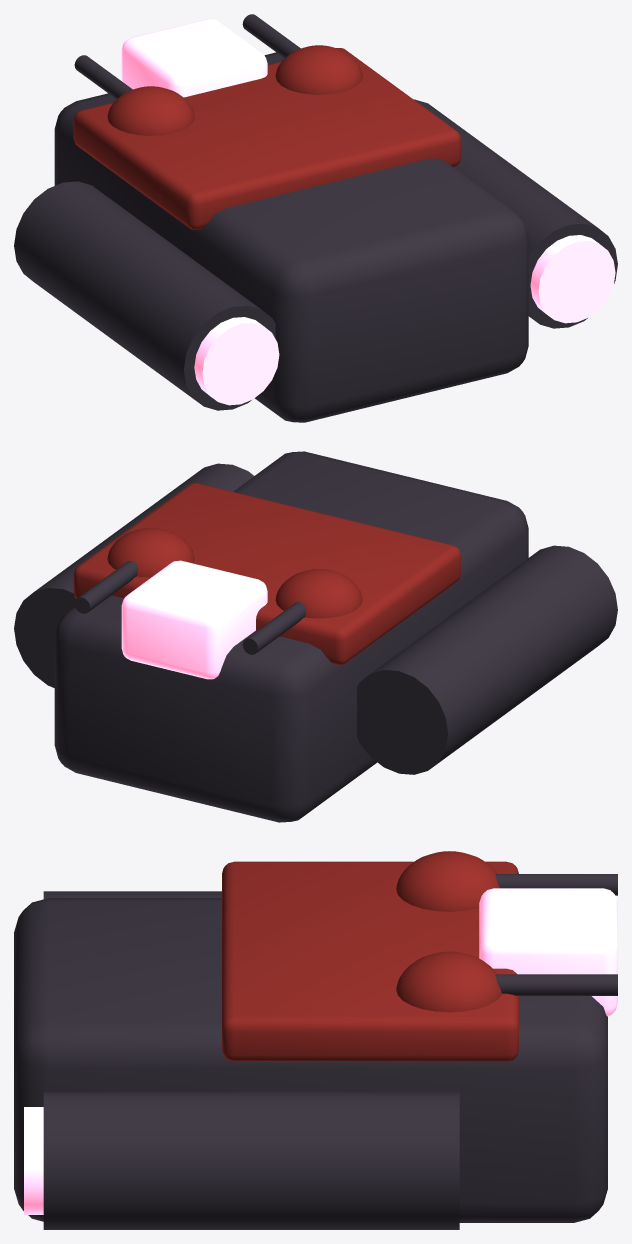
Rendered from pirate_gunship.glb.
3 views of the same model, one above another, from view 1: azimuth 30°, elevation 25°; view 2: azimuth 150°, elevation 25°; view 3: azimuth 270°, elevation 25° (orthographic). The views are drawn at different scales.
Visible parts, largest first — view 1: Hull, Armor, Pod-1, Bridge, Pod1, Engine, Engine.001, Turret1, Turret-1, Barrel-1, Barrel1; view 2: Hull, Pod-1, Armor, Bridge, Pod1, Turret-1, Turret1, Barrel1, Barrel-1; view 3: Hull, Pod1, Armor, Bridge, Turret1, Turret-1, Barrel1, Engine.001, Barrel-1, Pod-1.
Part boxes in pixels (bbox=[...]): Hull: bbox=[54, 52, 528, 422]; Armor: bbox=[73, 48, 460, 229]; Pod-1: bbox=[14, 181, 275, 410]; Bridge: bbox=[121, 19, 267, 97]; Pod1: bbox=[414, 99, 617, 328]; Engine: bbox=[194, 317, 279, 405]; Engine.001: bbox=[530, 235, 615, 323]; Turret1: bbox=[275, 45, 362, 94]; Turret-1: bbox=[107, 86, 194, 135]; Barrel-1: bbox=[74, 55, 132, 99]; Barrel1: bbox=[242, 14, 300, 58]; Hull: bbox=[54, 451, 528, 822]; Pod-1: bbox=[357, 545, 617, 774]; Armor: bbox=[73, 483, 460, 664]; Bridge: bbox=[121, 560, 267, 679]; Pod1: bbox=[14, 463, 253, 687]; Turret-1: bbox=[275, 569, 362, 618]; Turret1: bbox=[107, 528, 194, 577]; Barrel1: bbox=[74, 561, 137, 613]; Barrel-1: bbox=[242, 602, 306, 654]; Hull: bbox=[14, 898, 607, 1222]; Pod1: bbox=[43, 1092, 459, 1229]; Armor: bbox=[222, 861, 518, 1061]; Bridge: bbox=[479, 888, 617, 1016]; Turret1: bbox=[396, 951, 501, 1012]; Turret-1: bbox=[396, 851, 499, 911]; Barrel1: bbox=[495, 974, 617, 995]; Engine.001: bbox=[24, 1107, 43, 1214]; Barrel-1: bbox=[495, 874, 617, 895]; Pod-1: bbox=[43, 891, 221, 899].
Bounding box in the file's own units: 6.2 × 2.8 × 6.1.
